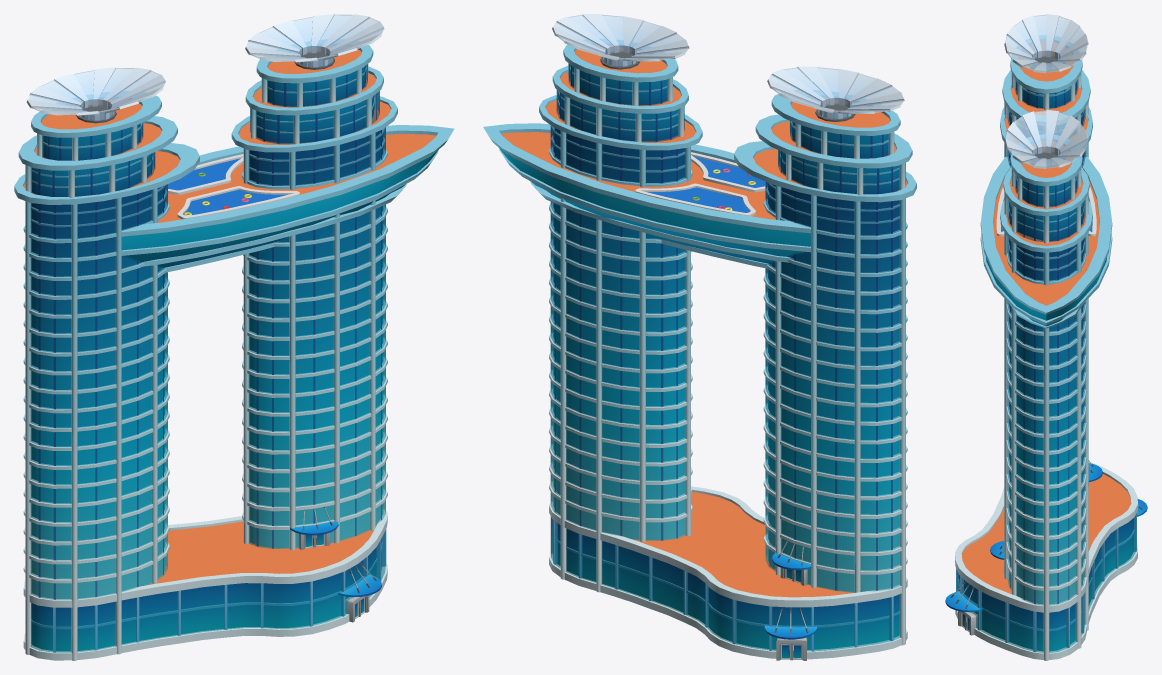
File: skyscraper_001.glb
The picture shows the model from 3 angles, left to right: view 1: azimuth 30°, elevation 25°; view 2: azimuth 150°, elevation 25°; view 3: azimuth 270°, elevation 25°; orthographic projection. The views are drawn at different scales.
Visible parts, largest first — view 1: skyscraper_001; view 2: skyscraper_001; view 3: skyscraper_001.
Boxes of the visible parts, x1,y1,x2,y2 form: skyscraper_001: (14,14,454,660); skyscraper_001: (483,14,916,660); skyscraper_001: (945,14,1147,660).
Size of the model in its own units: 62.95 by 75.32 by 28.06.
2 materials, 2 textured.
